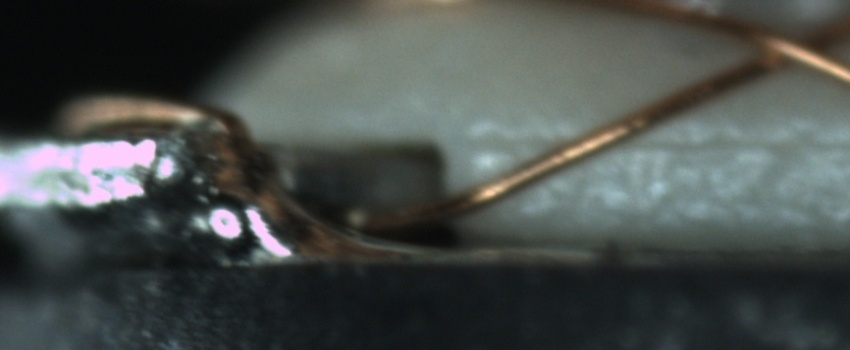CL: (738, 12, 845, 81)
DL: (465, 113, 849, 176)
TE: (46, 90, 243, 143)
